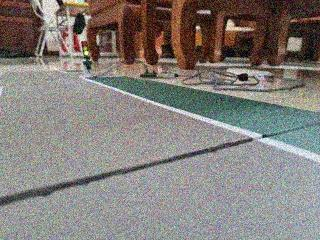green: (76, 38, 92, 58)
